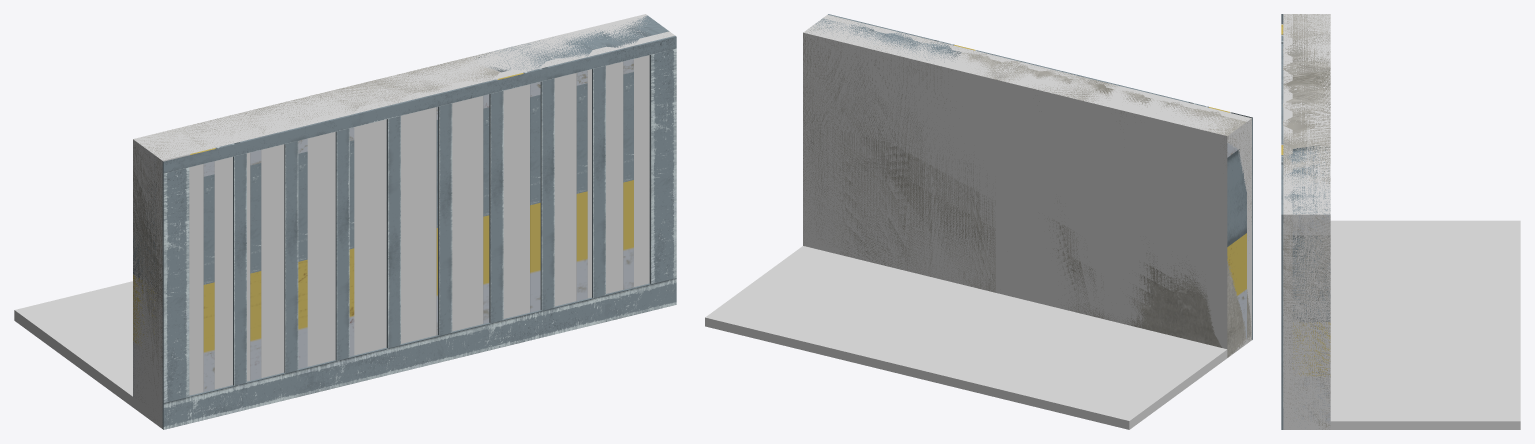
Rendered from ModularPieces.fbx.
3 views of the same model, side by side, from view 1: azimuth 30°, elevation 25°; view 2: azimuth 150°, elevation 25°; view 3: azimuth 270°, elevation 25° (orthographic). The views are drawn at different scales.
Parts seen in each view (by area): view 1: WallBasic, WallWindow, WallHole, Wall2, FloorGround; view 2: WallBasic, FloorGround, WallWindow, WallHole, Wall2; view 3: FloorGround, WallBasic, Wall2, WallWindow, WallHole.
Boxes of the visible parts, bbox=[...] form: WallBasic: bbox=[133, 14, 674, 428]; WallWindow: bbox=[133, 31, 676, 429]; WallHole: bbox=[133, 14, 674, 427]; Wall2: bbox=[133, 15, 668, 396]; FloorGround: bbox=[14, 281, 162, 426]; WallBasic: bbox=[803, 15, 1251, 357]; FloorGround: bbox=[705, 246, 1227, 429]; WallWindow: bbox=[803, 14, 1252, 357]; WallHole: bbox=[803, 15, 1251, 353]; Wall2: bbox=[811, 18, 1246, 340]; FloorGround: bbox=[1283, 220, 1520, 429]; WallBasic: bbox=[1283, 14, 1330, 429]; Wall2: bbox=[1283, 14, 1330, 429]; WallWindow: bbox=[1281, 14, 1330, 429]; WallHole: bbox=[1283, 14, 1330, 429].
Bounding box in the file's own units: 1000 × 500 × 504.
